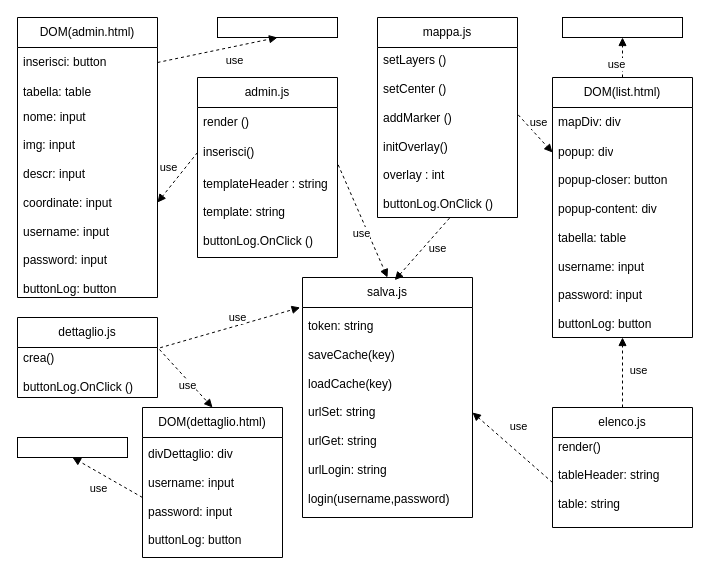
Image size: 710x575. Some labels were removed from this diagram. Here are the shapes that lost their labels. From the top down, the centre of each, then its label:
the point at 277,27: admin.html
the point at 622,27: list.html
the point at 72,447: dettaglio.html
